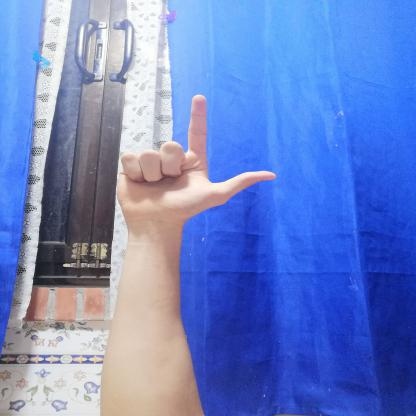LAAM: (100, 86, 287, 237)
